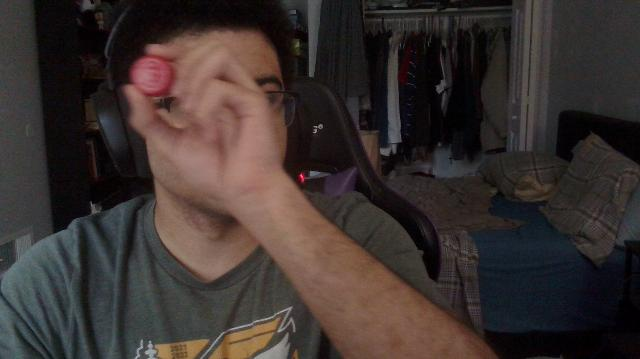cap: (129, 56, 173, 96)
